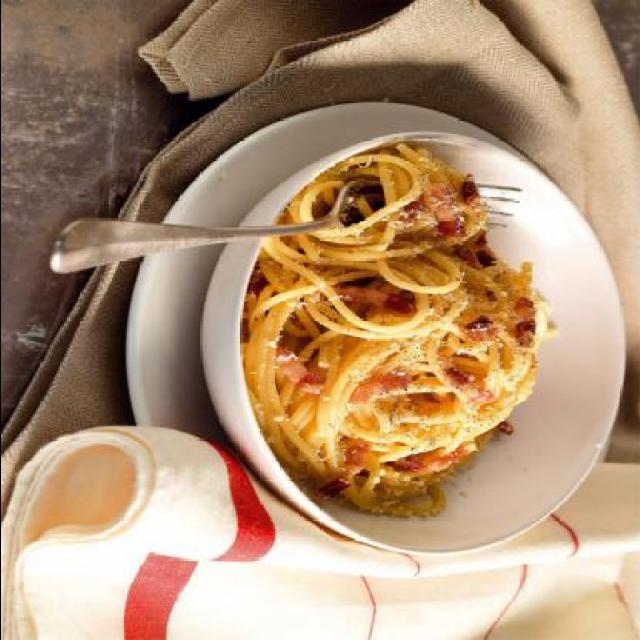Pasta with carbonara sauce: (205, 154, 581, 606)
